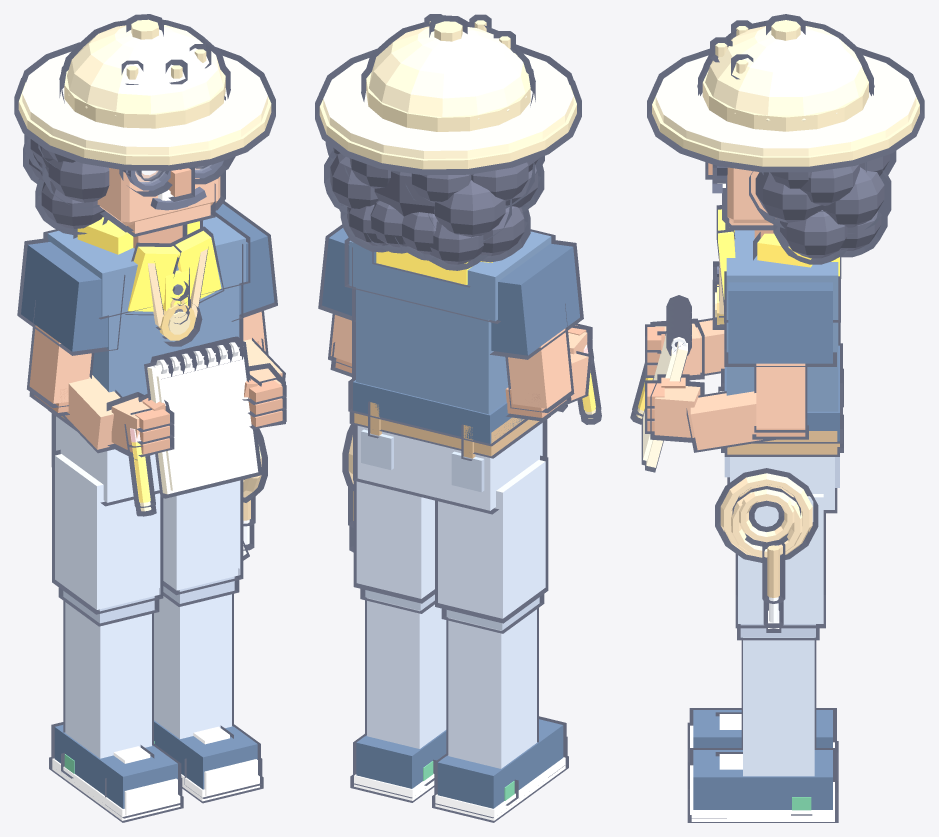
File: profesora.glb
The picture shows the model from 3 angles, left to right: view 1: azimuth 30°, elevation 25°; view 2: azimuth 150°, elevation 25°; view 3: azimuth 270°, elevation 25°; orthographic projection. The views are drawn at different scales.
Visible parts, largest first — view 1: leg_upper_R, leg_lower_R, hat_brim, hat_dome, leg_lower_L, pad_paper, shirt, leg_upper_L, sleeve_R, hat_brim_edge, shoe_R, shirt_yoke (+38 smaller); view 2: shirt, leg_upper_R, leg_lower_R, hat_brim, hat_dome, leg_lower_L, leg_upper_L, sleeve_R, hips, shoe_R, shirt_yoke, shirt_hem (+31 smaller); view 3: hat_brim, hat_dome, leg_lower_L, sleeve_L, shoe_L, leg_upper_L, hat_brim_edge, arm_fore_L, arm_upper_L, rope_coil_0, shirt_yoke, hat_band (+26 smaller).
Part boxes in pixels (<box>): leg_upper_R: <box>52,449,163,614</box>; leg_lower_R: <box>63,597,153,758</box>; hat_brim: <box>17,42,272,166</box>; hat_dome: <box>59,19,230,116</box>; leg_lower_L: <box>154,591,233,738</box>; pad_paper: <box>156,352,260,495</box>; shirt: <box>92,244,243,396</box>; leg_upper_L: <box>163,480,243,595</box>; sleeve_R: <box>17,238,125,355</box>; hat_brim_edge: <box>14,78,275,170</box>; shoe_R: <box>51,722,181,808</box>; shirt_yoke: <box>43,212,250,319</box>; shirt: <box>352,247,508,445</box>; leg_upper_R: <box>435,455,548,623</box>; leg_lower_R: <box>446,604,538,768</box>; hat_brim: <box>318,44,578,170</box>; hat_dome: <box>361,21,535,119</box>; leg_lower_L: <box>365,590,446,748</box>; leg_upper_L: <box>353,481,434,603</box>; sleeve_R: <box>490,239,583,359</box>; hips: <box>353,413,547,514</box>; shoe_R: <box>434,716,566,818</box>; shirt_yoke: <box>344,229,555,323</box>; shirt_hem: <box>348,379,527,446</box>; hat_brim: <box>650,47,920,168</box>; hat_dome: <box>697,20,874,121</box>; leg_lower_L: <box>741,637,816,776</box>; sleeve_L: <box>724,271,836,366</box>; shoe_L: <box>689,748,836,818</box>; leg_upper_L: <box>735,494,825,628</box>; hat_brim_edge: <box>647,82,924,172</box>; arm_fore_L: <box>686,391,775,452</box>; arm_upper_L: <box>754,363,807,432</box>; rope_coil_0: <box>715,468,818,562</box>; shirt_yoke: <box>724,230,840,322</box>; hat_band: <box>698,65,873,131</box>.
Bounding box in the file's own units: 0.7454 × 2.42 × 0.8431.
